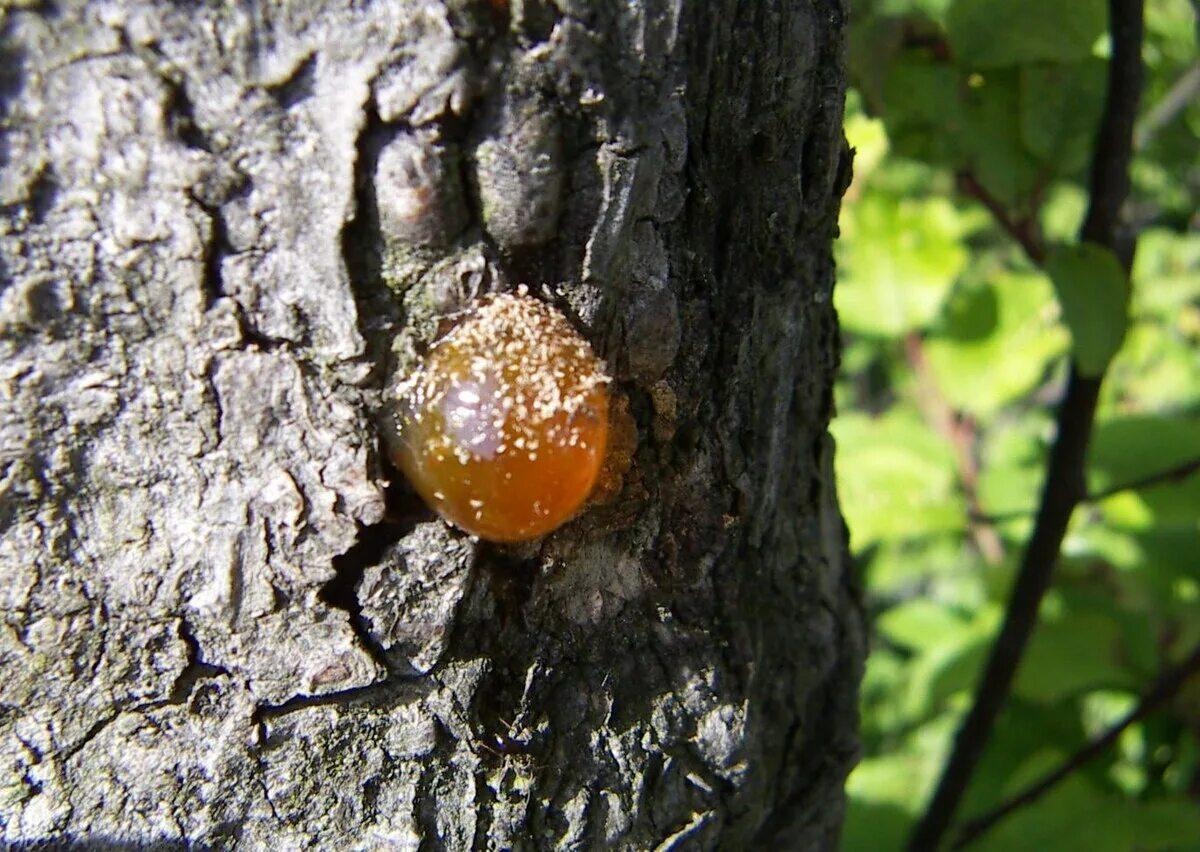gommosis: (390, 292, 608, 541)
